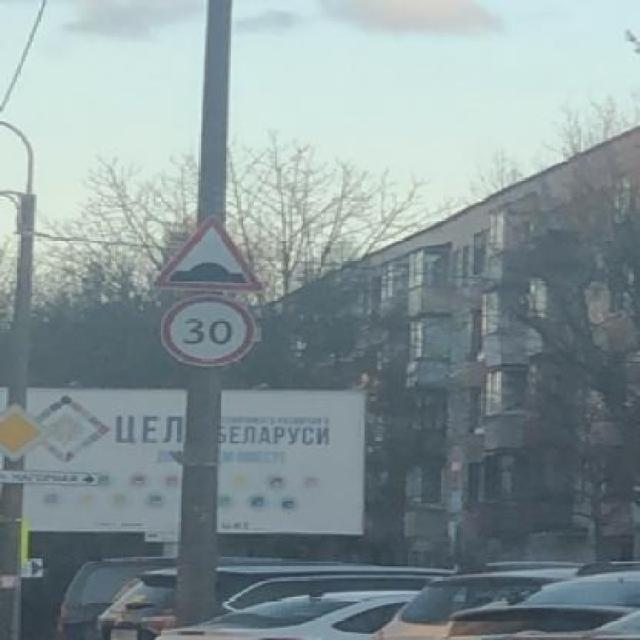forb_speed_over_30: (158, 295, 254, 370)
